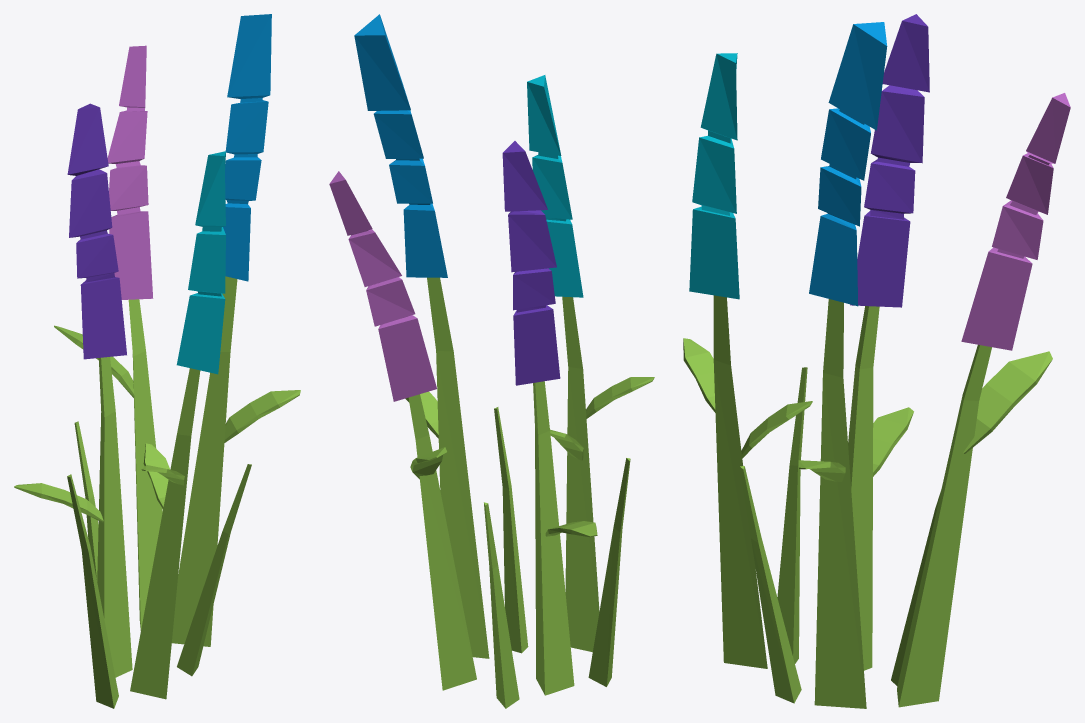
3 views of the same model, side by side, from view 1: azimuth 30°, elevation 25°; view 2: azimuth 150°, elevation 25°; view 3: azimuth 270°, elevation 25° (orthographic). The views are drawn at different scales.
Parts seen in each view (by area): view 1: default; view 2: default; view 3: default.
Boxes of the visible parts, x1,y1,x2,y2 form: default: (14, 14, 300, 708); default: (329, 14, 654, 708); default: (683, 14, 1070, 708).
Size of the model in its own units: 1.11 by 2.7 by 1.26.
